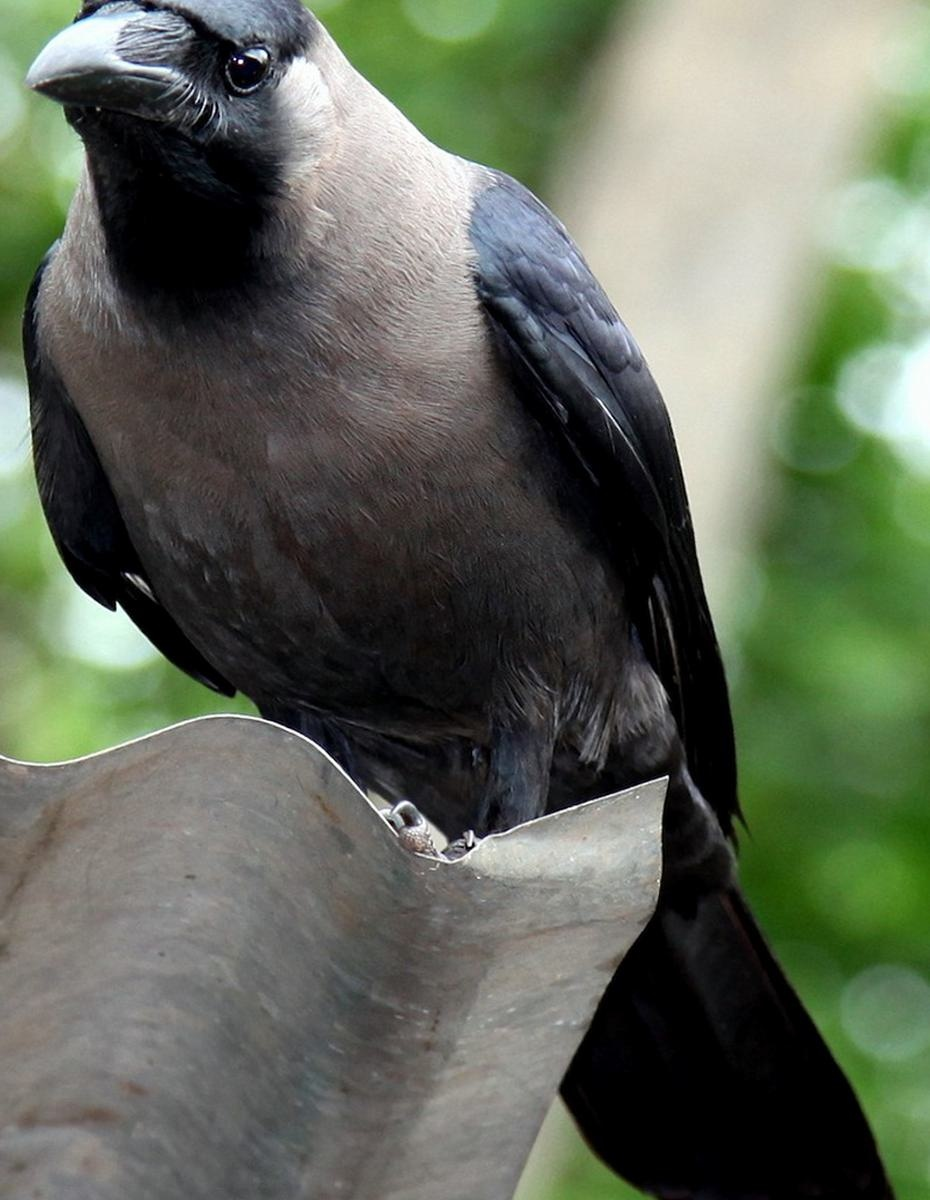crow: (1, 1, 888, 1164)
